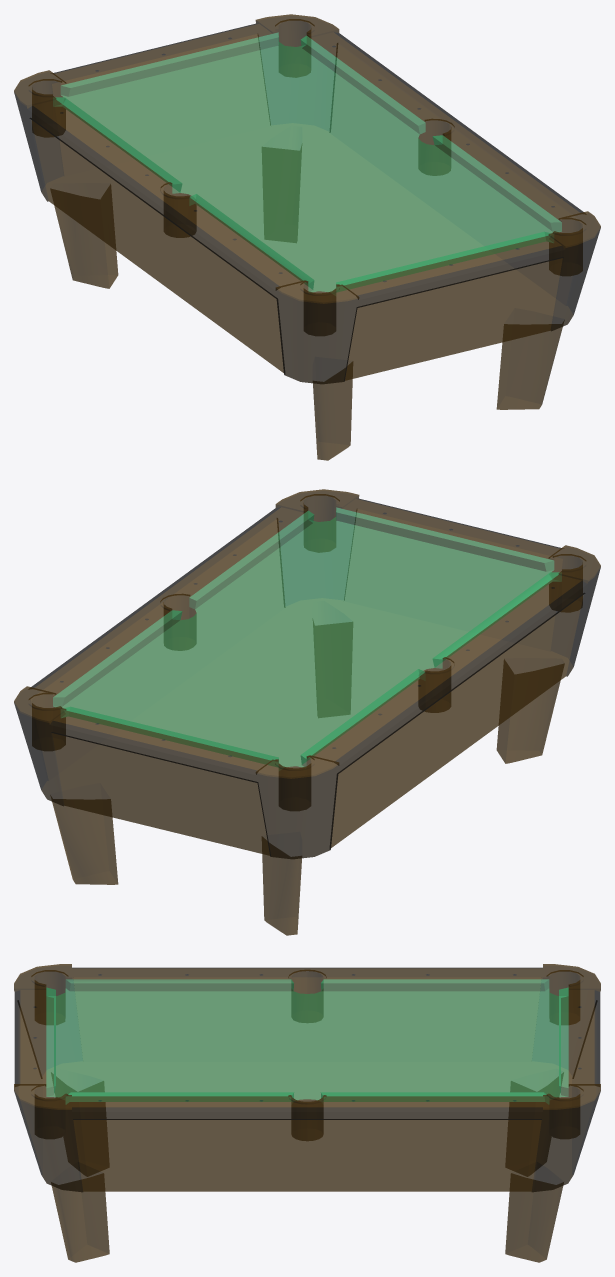
Rendered from pooltable_a03.dae.
3 renders of one model, top to bottom at view 1: azimuth 30°, elevation 25°; view 2: azimuth 150°, elevation 25°; view 3: azimuth 270°, elevation 25°, orthographic. The views are drawn at different scales.
Parts seen in each view (by area): view 1: _4_seitenflaechen, _1_filzmatte, _5_rahmen, _6_holztop, _2_beine; view 2: _4_seitenflaechen, _1_filzmatte, _5_rahmen, _6_holztop, _2_beine; view 3: _4_seitenflaechen, _1_filzmatte, _5_rahmen, _6_holztop, _2_beine.
Part boxes in pixels (left/top/right/bottom): _4_seitenflaechen: left=31, top=34, right=583, bottom=383; _1_filzmatte: left=53, top=32, right=561, bottom=292; _5_rahmen: left=14, top=16, right=600, bottom=384; _6_holztop: left=14, top=14, right=600, bottom=335; _2_beine: left=50, top=126, right=564, bottom=460; _4_seitenflaechen: left=31, top=509, right=583, bottom=858; _1_filzmatte: left=53, top=507, right=561, bottom=767; _5_rahmen: left=14, top=491, right=600, bottom=859; _6_holztop: left=14, top=489, right=600, bottom=810; _2_beine: left=50, top=601, right=564, bottom=935; _4_seitenflaechen: left=19, top=977, right=595, bottom=1191; _1_filzmatte: left=46, top=979, right=568, bottom=1104; _5_rahmen: left=14, top=966, right=600, bottom=1192; _6_holztop: left=14, top=964, right=600, bottom=1140; _2_beine: left=51, top=1069, right=563, bottom=1262.
Size of what is drawn, in the model's own units: 135 by 76.44 by 231.
